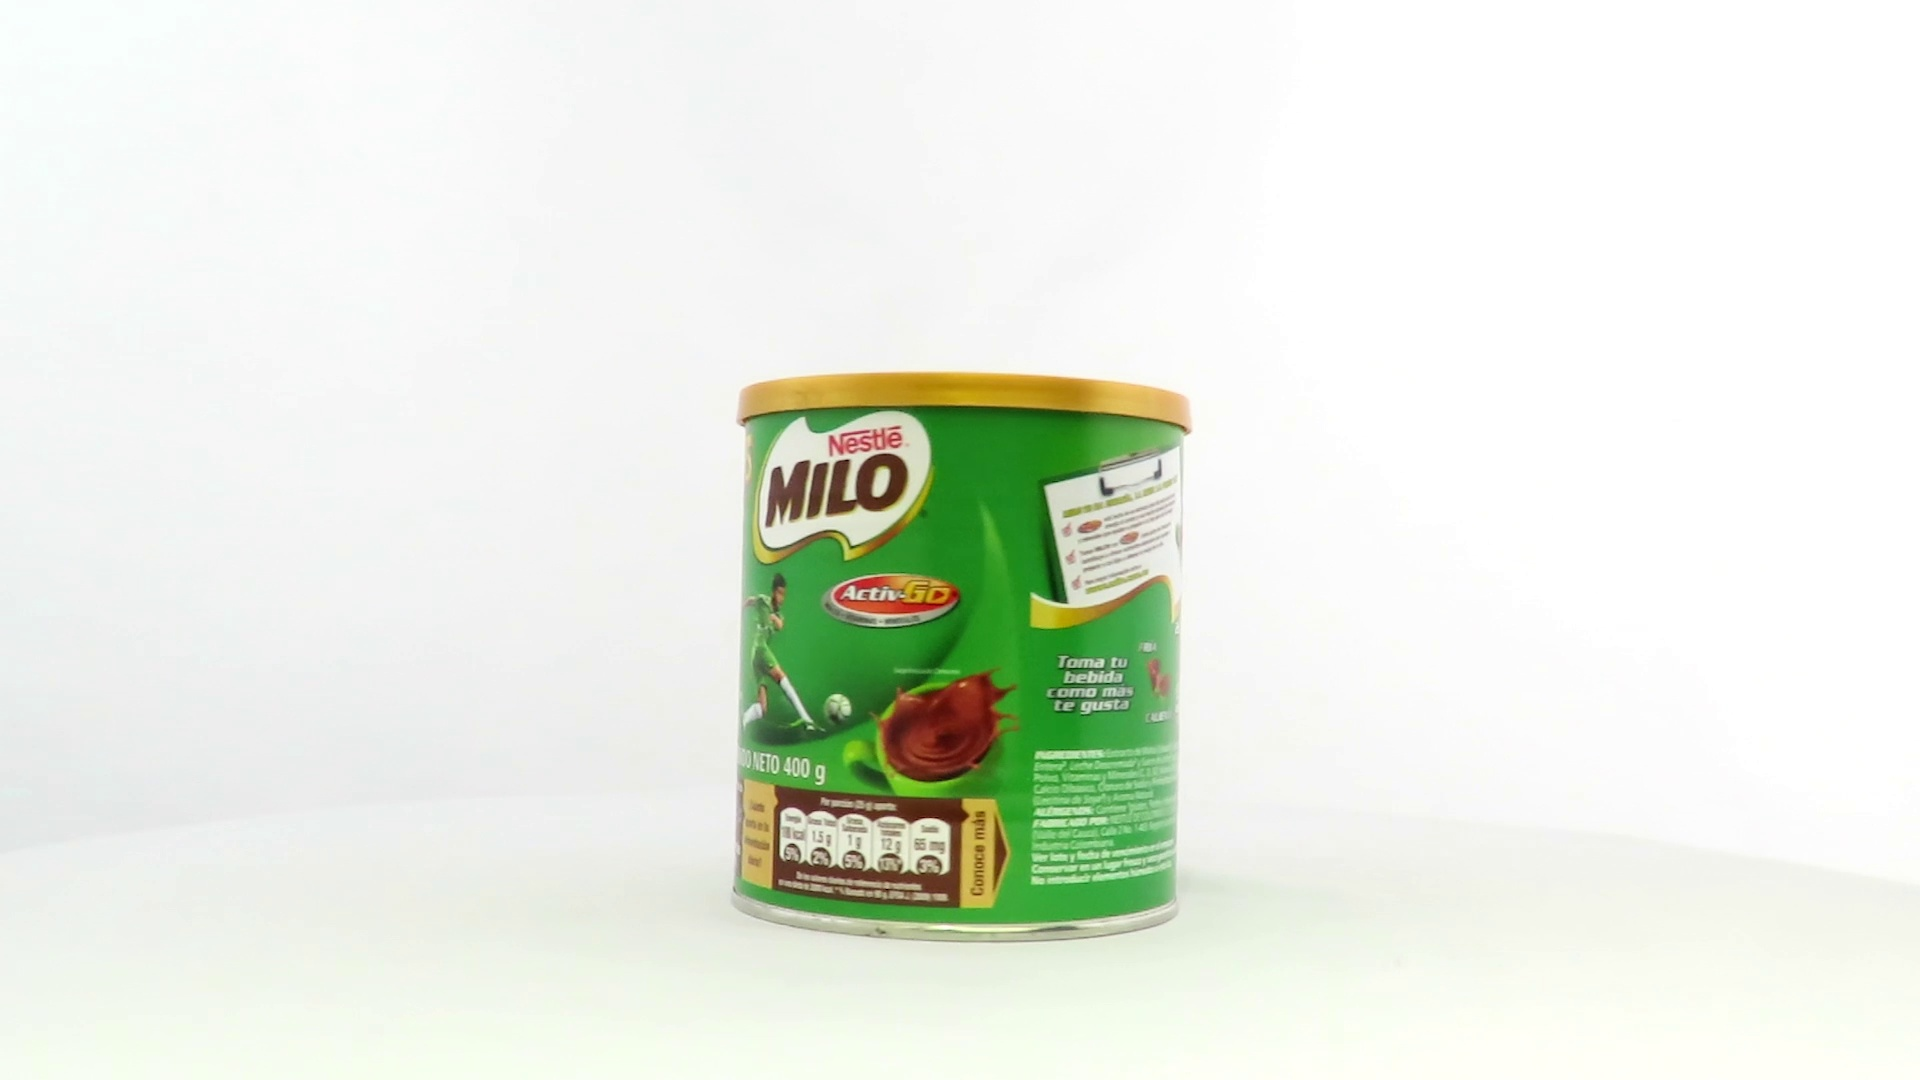COL0170203LAT40000: (725, 367, 1197, 949)
